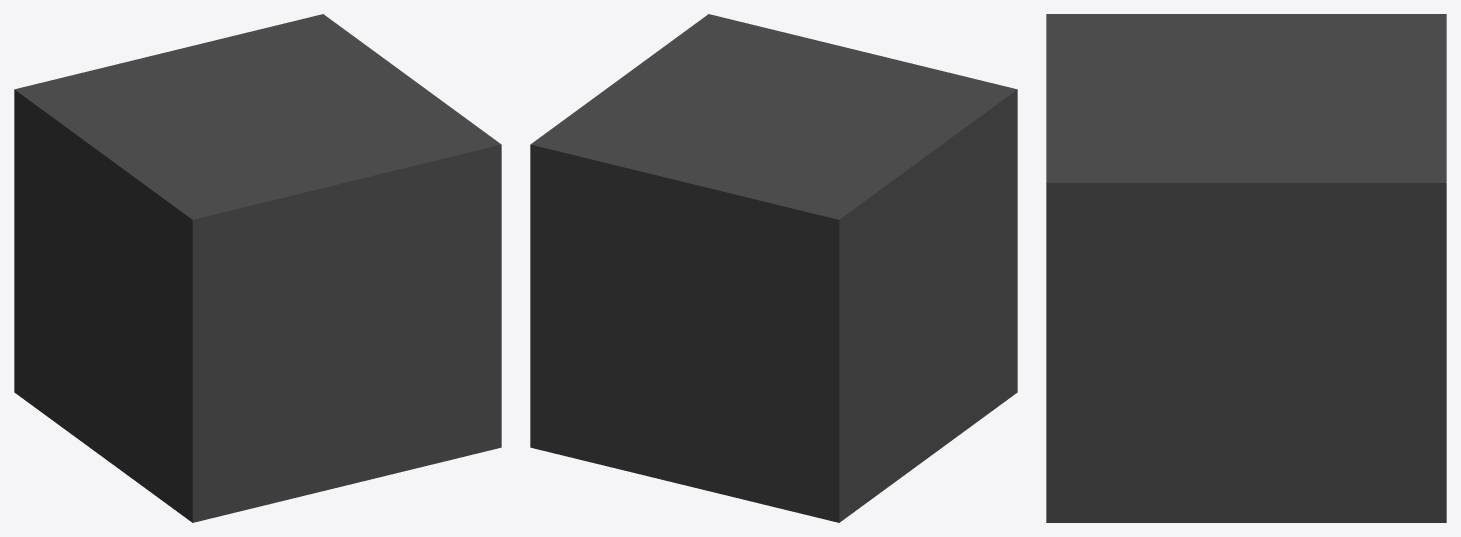
The model's file is water.obj.
3 views of the same model, side by side, from view 1: azimuth 30°, elevation 25°; view 2: azimuth 150°, elevation 25°; view 3: azimuth 270°, elevation 25° (orthographic). The views are drawn at different scales.
Parts seen in each view (by area): view 1: water; view 2: water; view 3: water.
Boxes of the visible parts, box(x1,y1,x2,y2) form: water: box(14, 14, 501, 522); water: box(530, 14, 1017, 522); water: box(1046, 14, 1446, 522).
Bounding box in the file's own units: 16 × 15 × 16.
